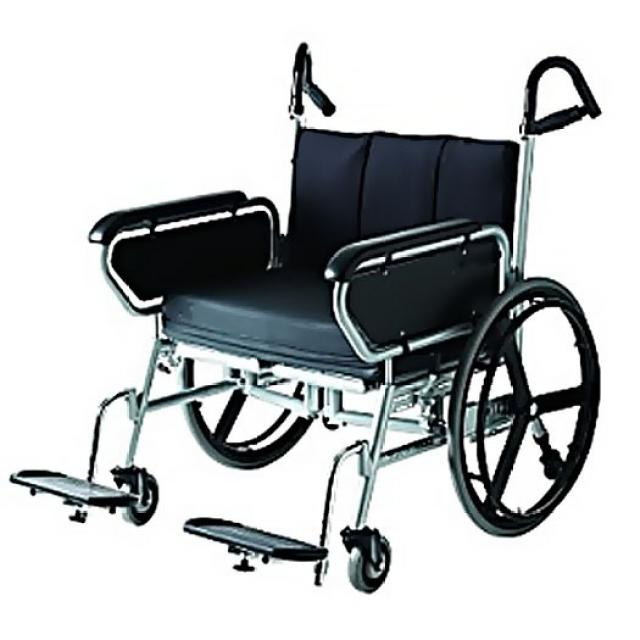wheelchair: (4, 35, 613, 603)
